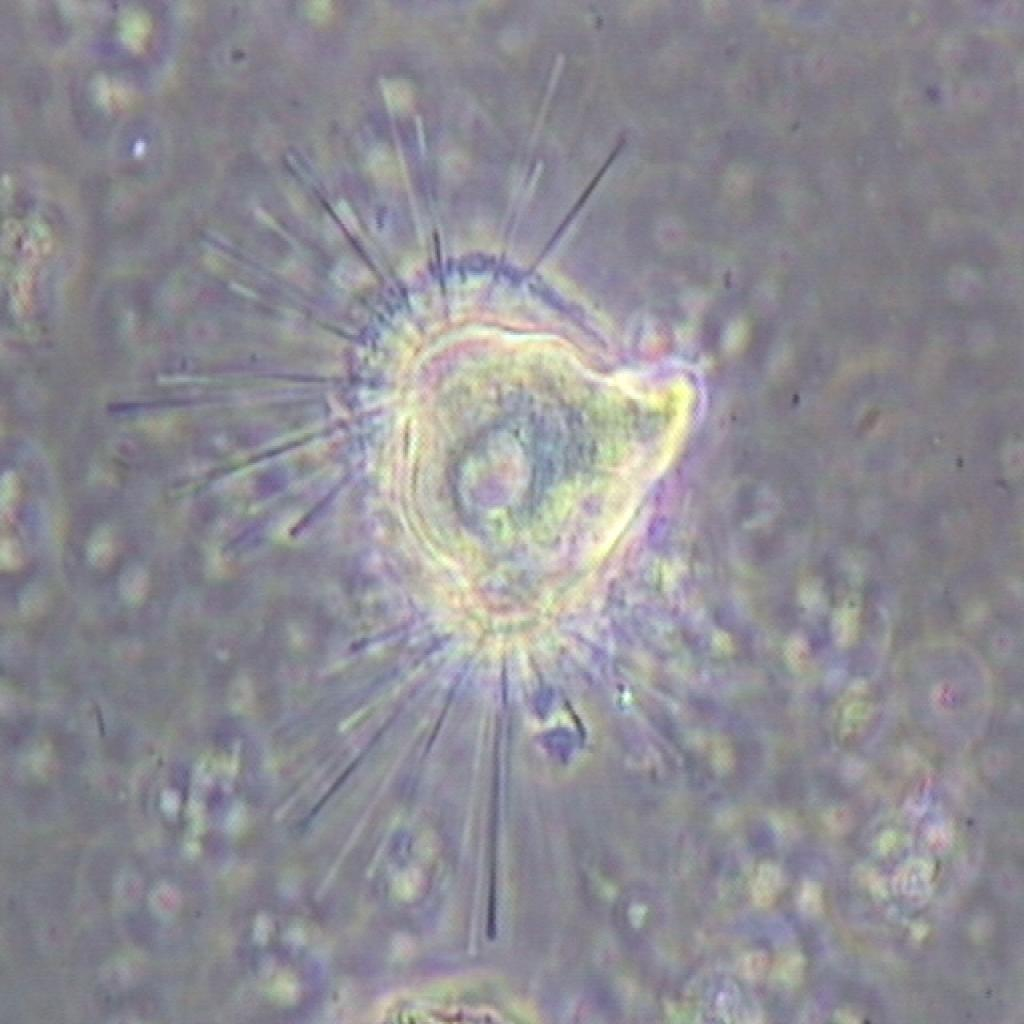Suctorida: (138, 79, 802, 890)
